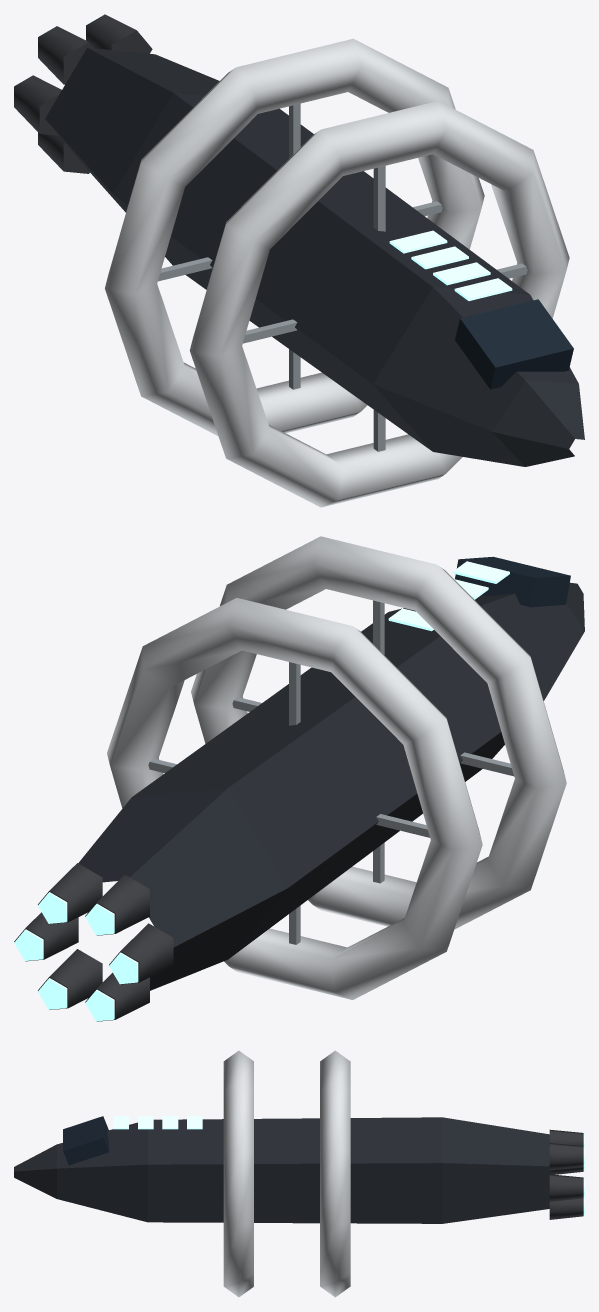
Rendered from space_ship_colony_transport_mk4_lod1.glb.
3 renders of one model, top to bottom at view 1: azimuth 30°, elevation 25°; view 2: azimuth 150°, elevation 25°; view 3: azimuth 270°, elevation 25°, orthographic. The views are drawn at different scales.
Parts seen in each view (by area): view 1: body, habitat_ring_1, habitat_ring_0, engine_2, engine_3, engine_1, engine_4; view 2: body, habitat_ring_0, habitat_ring_1, engine_2, engine_3, engine_1, engine_5, engine_4, engine_0; view 3: body, habitat_ring_0, habitat_ring_1, engine_0, engine_1, engine_5, engine_2.
Boxes of the visible parts, x1=… form: body: x1=45, y1=47, x2=584, y2=466; habitat_ring_1: x1=189, y1=101, x2=569, y2=507; habitat_ring_0: x1=105, y1=38, x2=484, y2=435; engine_2: x1=38, y1=26, x2=93, y2=84; engine_3: x1=14, y1=75, x2=61, y2=135; engine_1: x1=86, y1=14, x2=152, y2=53; engine_4: x1=38, y1=132, x2=89, y2=173; body: x1=78, y1=556, x2=584, y2=990; habitat_ring_0: x1=107, y1=598, x2=482, y2=999; habitat_ring_1: x1=191, y1=536, x2=566, y2=929; engine_2: x1=85, y1=875, x2=149, y2=935; engine_3: x1=109, y1=923, x2=173, y2=984; engine_1: x1=38, y1=863, x2=102, y2=924; engine_5: x1=38, y1=949, x2=102, y2=1009; engine_4: x1=85, y1=972, x2=149, y2=1021; engine_0: x1=14, y1=912, x2=78, y2=961; body: x1=14, y1=1116, x2=549, y2=1223; habitat_ring_0: x1=320, y1=1050, x2=350, y2=1297; habitat_ring_1: x1=223, y1=1050, x2=253, y2=1297; engine_0: x1=549, y1=1174, x2=584, y2=1201; engine_1: x1=549, y1=1143, x2=584, y2=1170; engine_5: x1=549, y1=1197, x2=584, y2=1219; engine_2: x1=549, y1=1129, x2=584, y2=1146.
Bounding box in the file's own units: 25.29 × 24.05 × 58.
